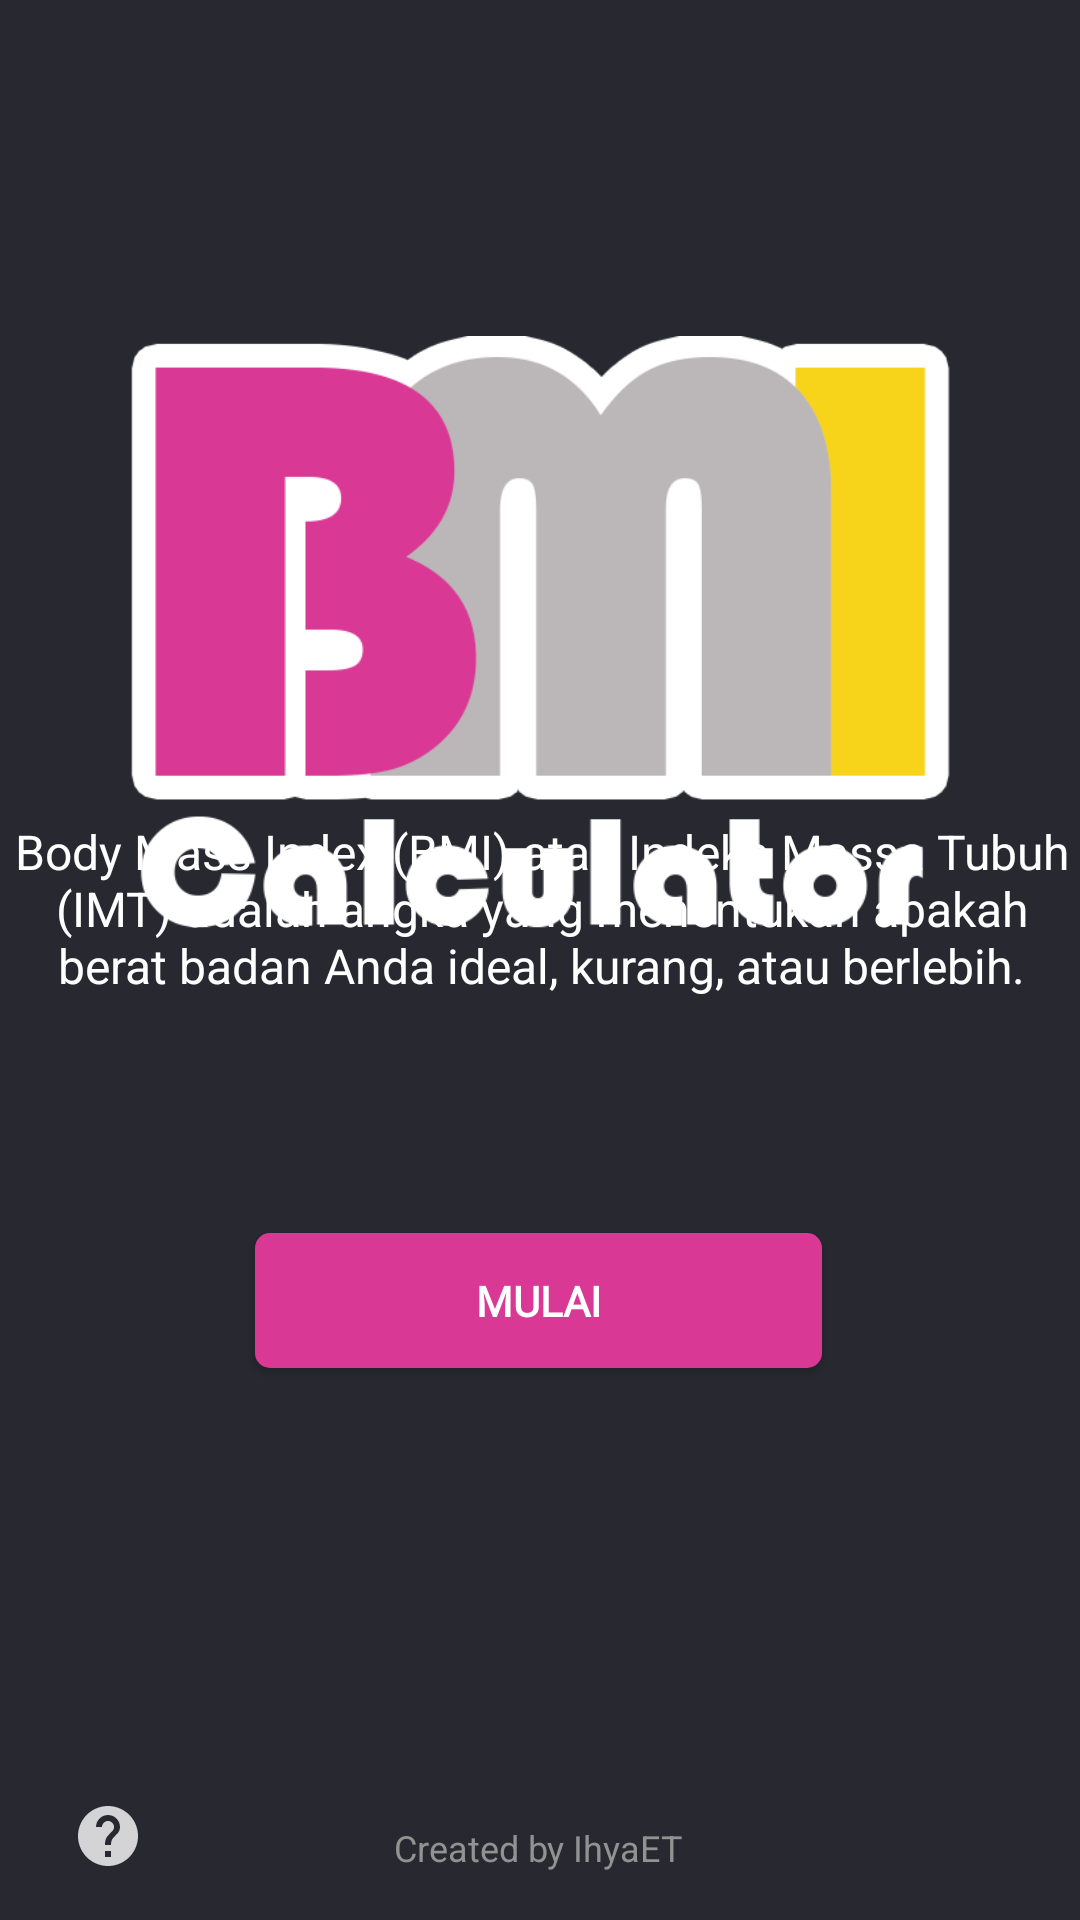

Icons on this 1080×1920 Android screen, each with its box as (x1, y1, x2, y2):
help: (78, 1806, 138, 1866)
